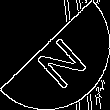N_NW: (24, 23, 86, 87)
